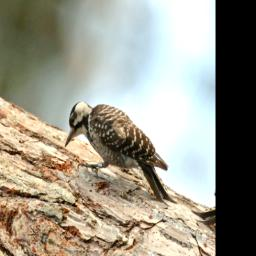Woodpecker: (55, 84, 192, 219)
